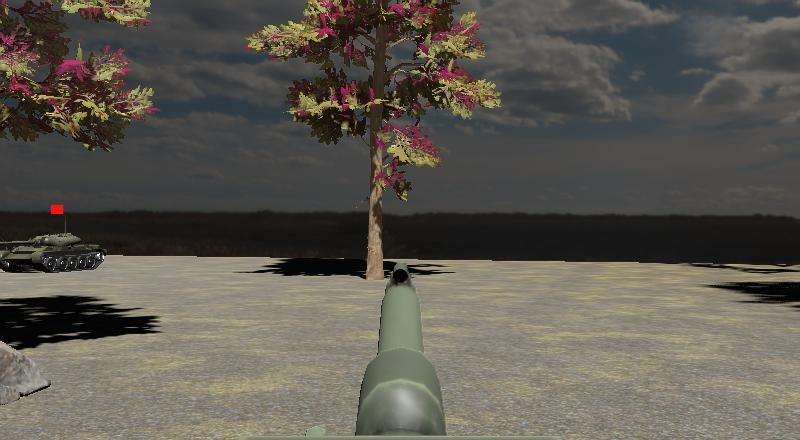Tank: (0, 227, 110, 276)
